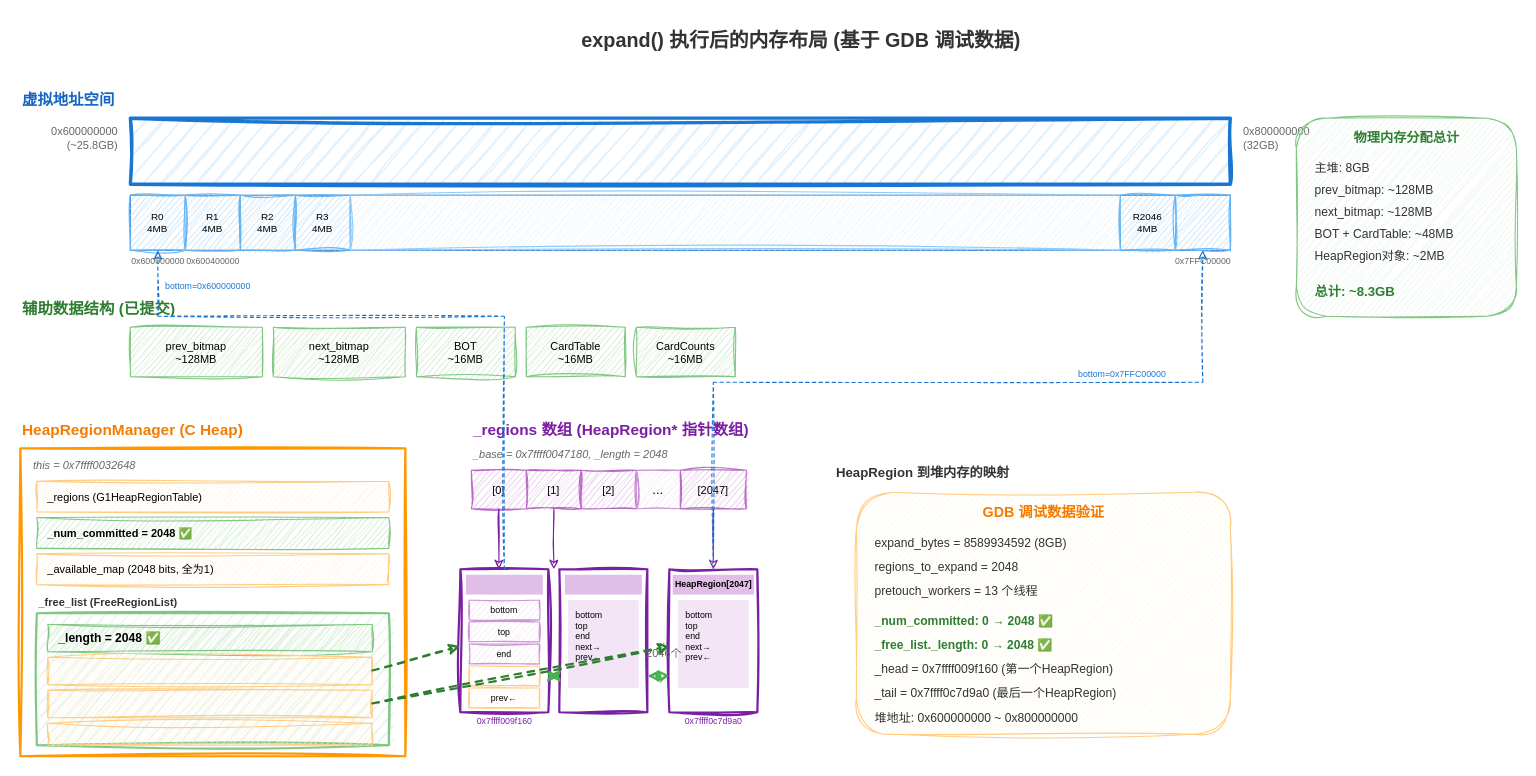
Image size: 1536x776. Some labels were removed from this diagram. Here are the shapes that lost their labels. From the top down, the centre of each, then its label:
point 679,150: Java Heap (8GB) - 已提交物理内存
point 734,222: ... 2040个
point 1202,222: R2047 4MB
point 503,584: HeapRegion[0]
point 602,584: HeapRegion[1]
point 209,670: _head = 0x7ffff009f160
point 504,675: next→
point 209,703: _tail = 0x7ffff0c7d9a0
point 209,733: _name = "Free list"
